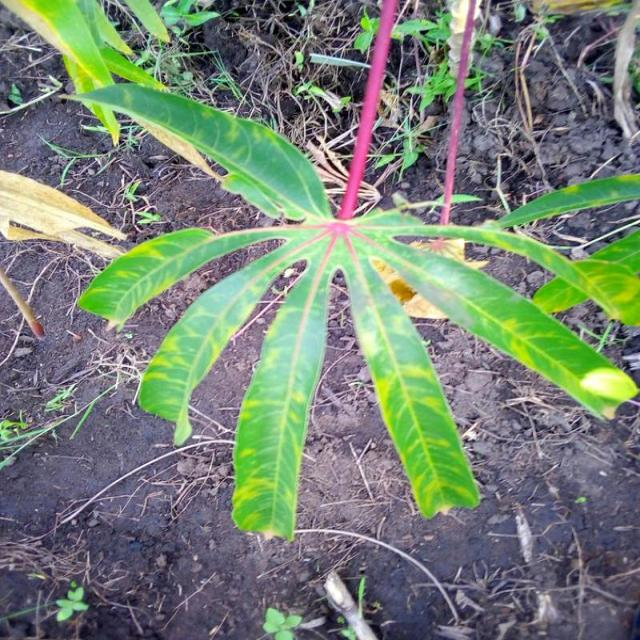cassava leaf: (5, 1, 638, 542), (61, 80, 332, 222)
